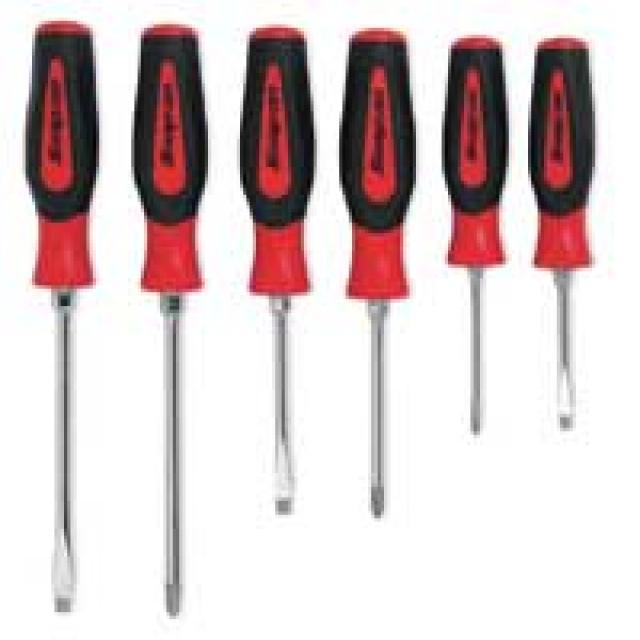screwdriver: (124, 14, 213, 628), (233, 19, 327, 536), (18, 14, 96, 620), (332, 21, 421, 542), (434, 27, 514, 442), (521, 32, 598, 436)
